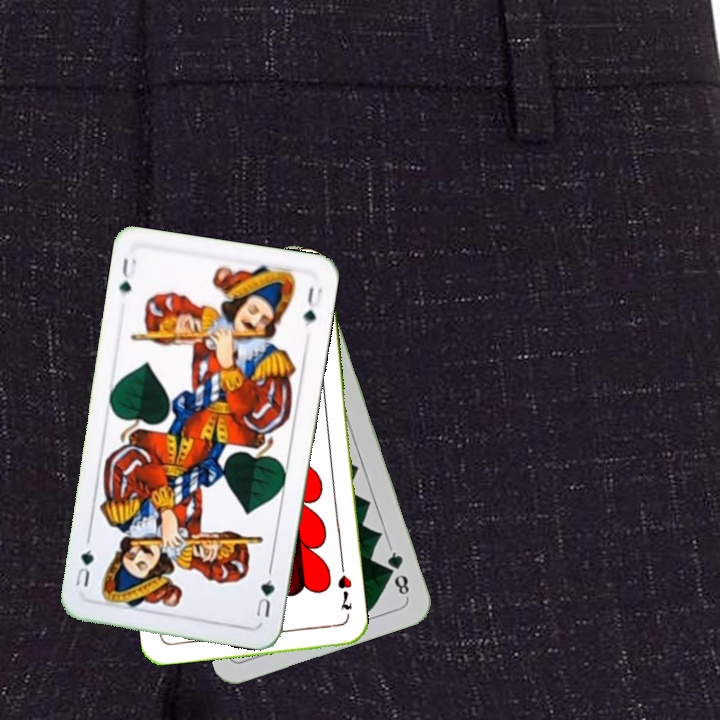G8: (383, 543, 412, 600)
GU: (252, 565, 277, 620), (115, 254, 139, 296)
H7: (333, 571, 355, 613)
